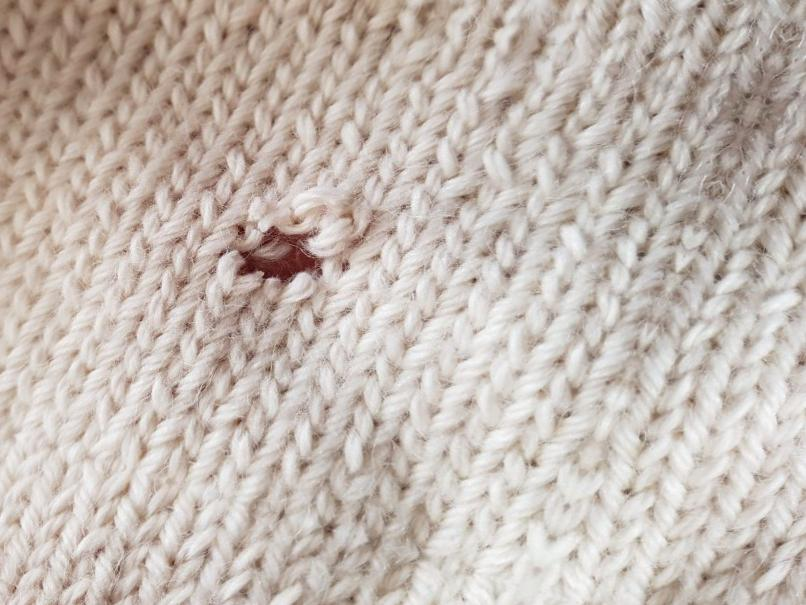hole: (221, 210, 339, 303)
